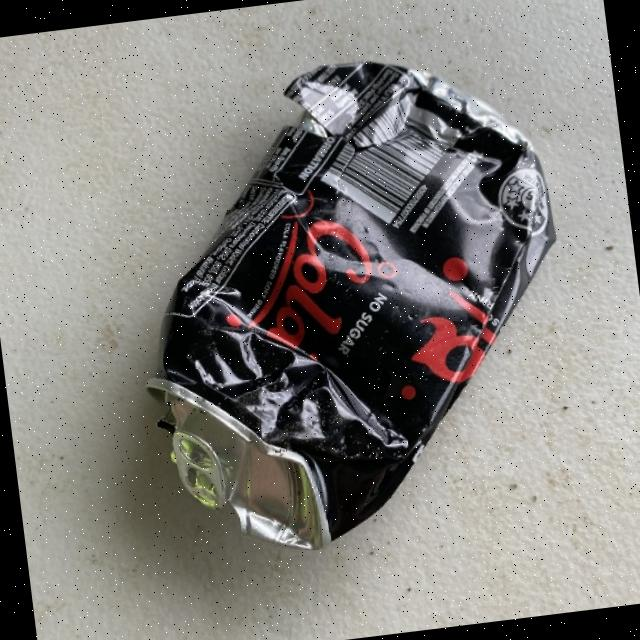metal: (108, 37, 590, 568)
